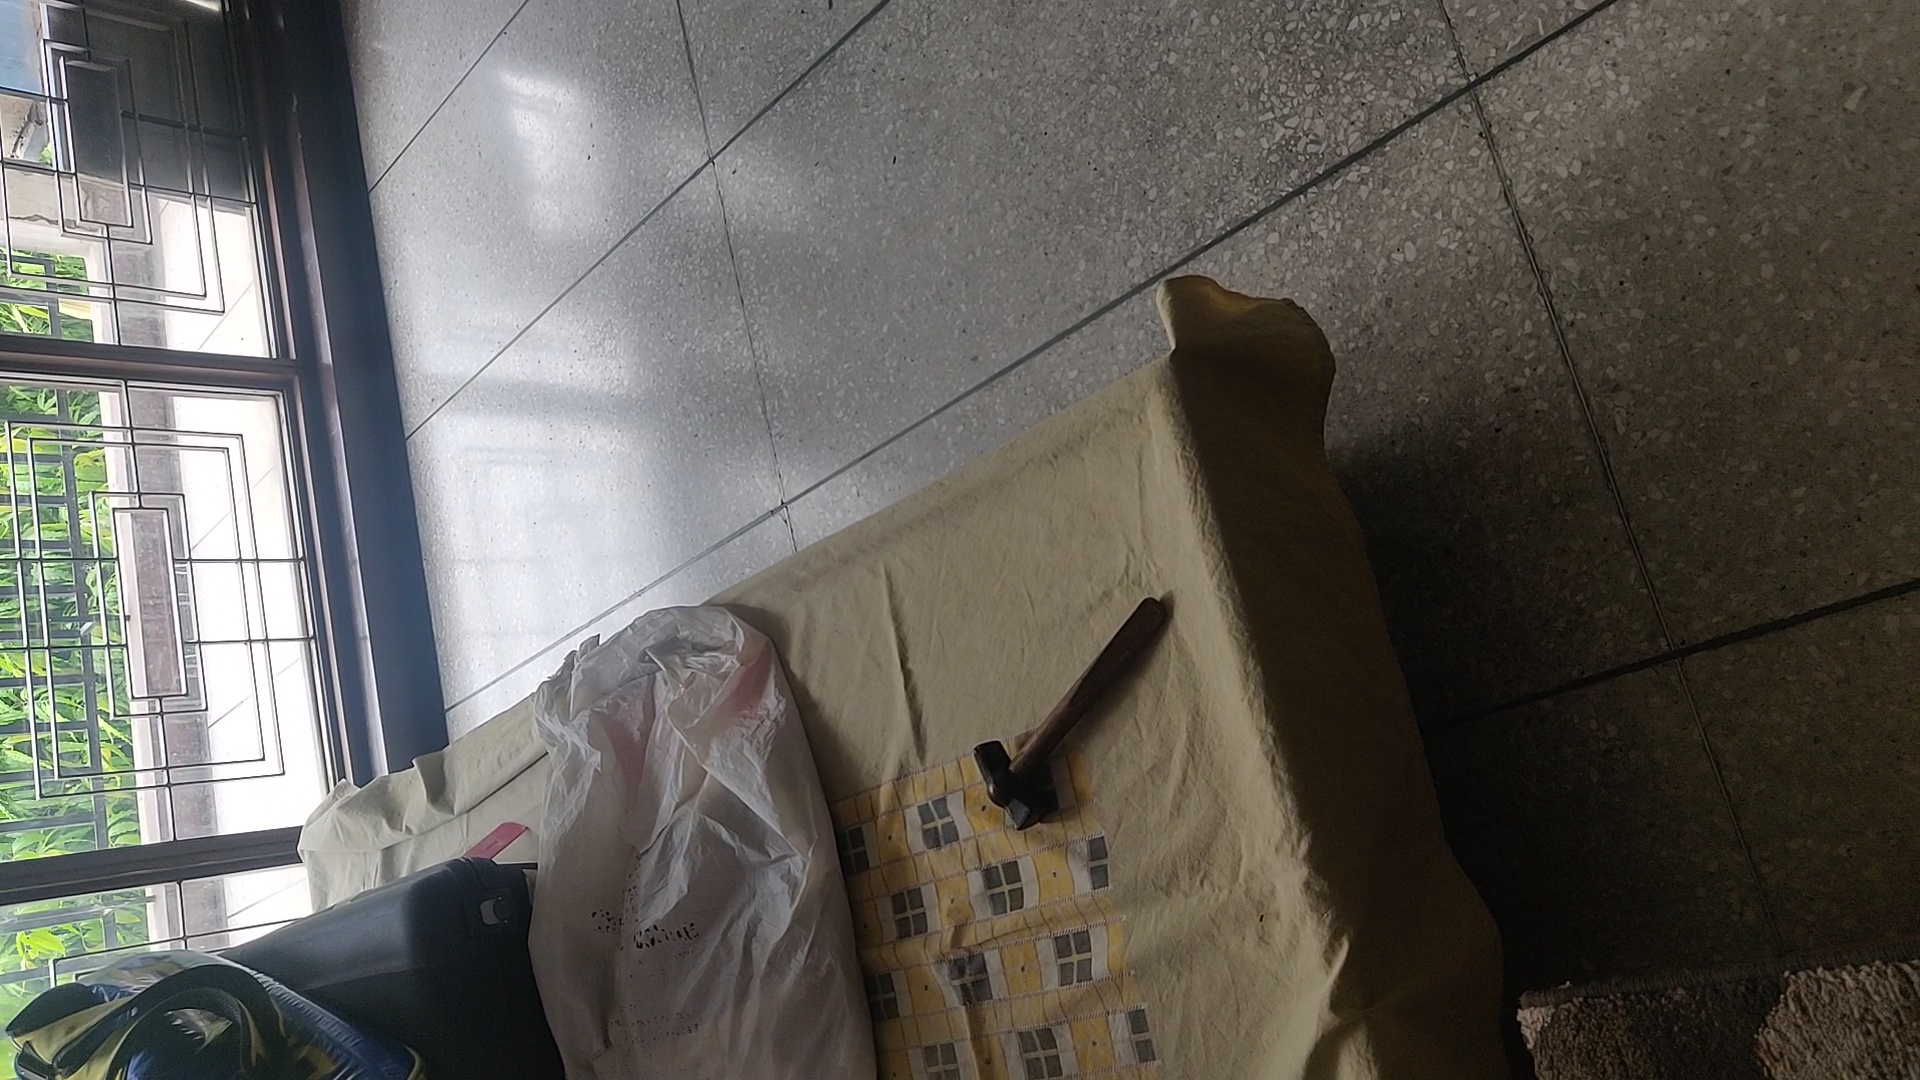hammer: (965, 596, 1172, 833)
